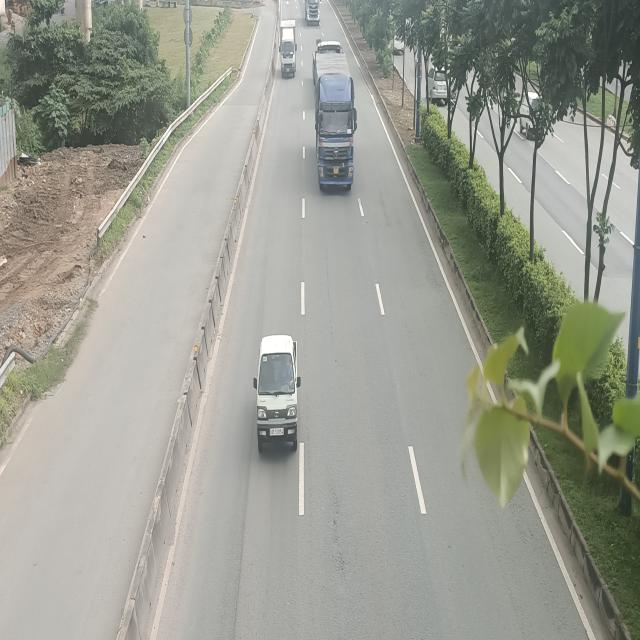truck: (312, 50, 356, 190), (279, 18, 297, 78)
van: (253, 334, 301, 448)
